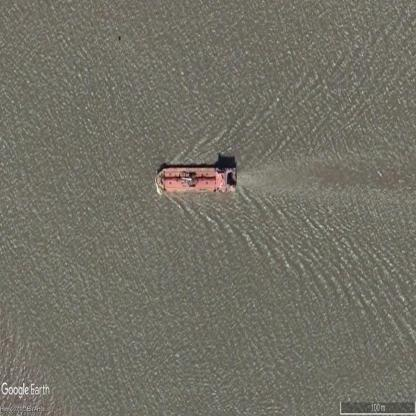ship: (154, 162, 238, 195)
